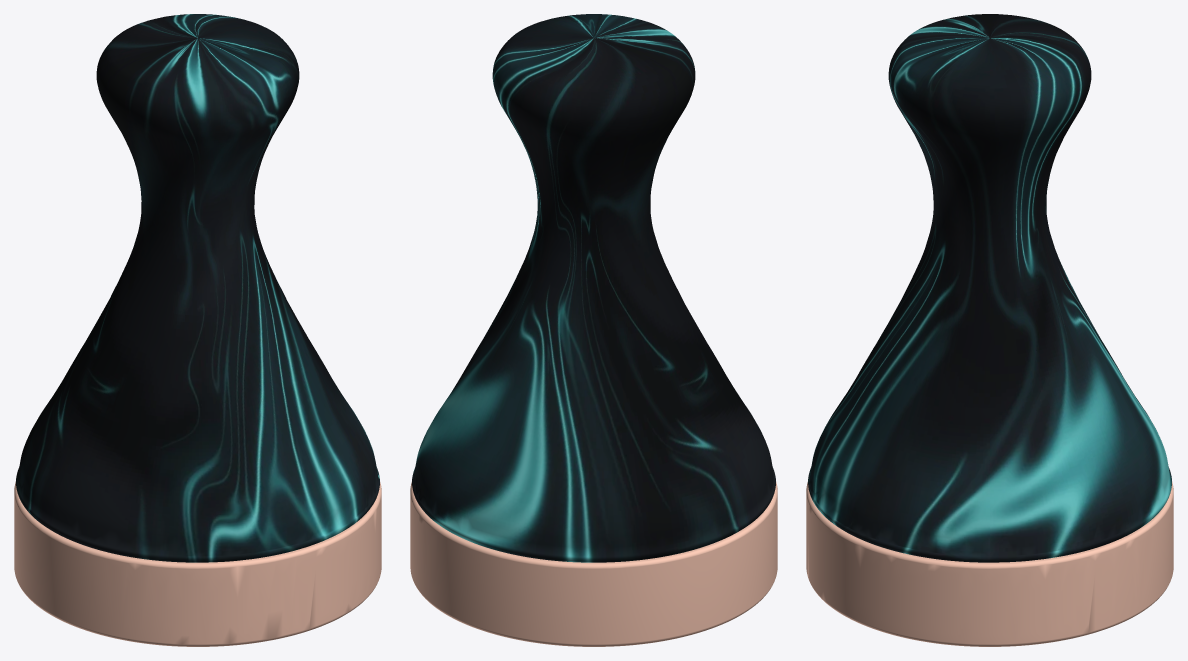
Rendered from pawn-black-hd.glb.
3 views of the same model, side by side, from view 1: azimuth 30°, elevation 25°; view 2: azimuth 150°, elevation 25°; view 3: azimuth 270°, elevation 25° (orthographic).
Visible parts, largest first — view 1: pesec_cerna; view 2: pesec_cerna; view 3: pesec_cerna.
Part boxes in pixels (x1=…): pesec_cerna: x1=14, y1=14, x2=381, y2=646; pesec_cerna: x1=410, y1=14, x2=777, y2=646; pesec_cerna: x1=806, y1=14, x2=1173, y2=646.
Size of the model in its own units: 0.6748 by 1.08 by 0.6748.
Materials: 2 (1 with a texture image).
